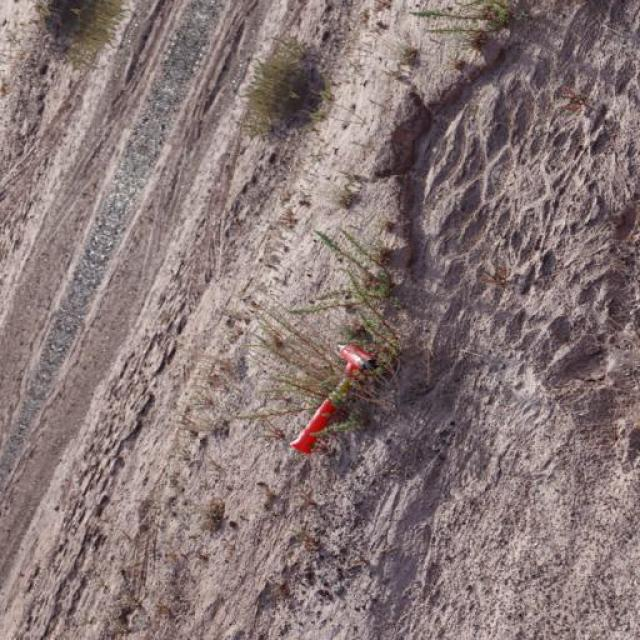mallet: (288, 341, 377, 455)
